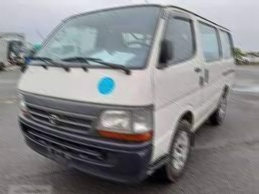van: (20, 2, 237, 182)
